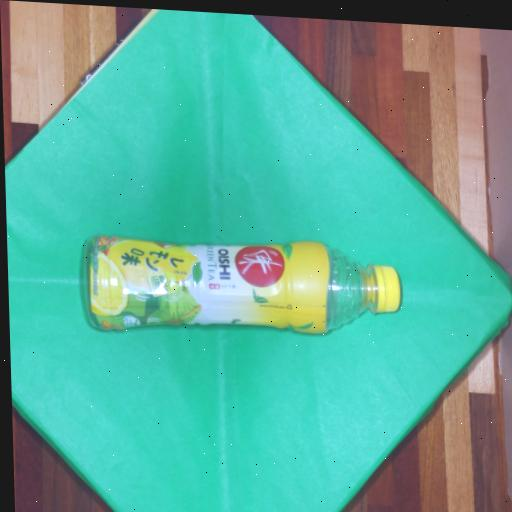bottle: (86, 236, 400, 333)
